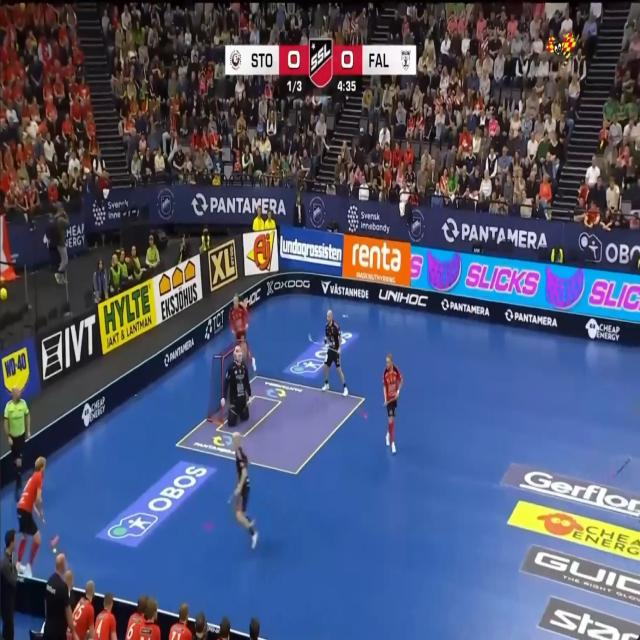Balls: (53, 547, 56, 553)
player: (16, 456, 45, 575), (233, 432, 258, 548), (220, 346, 250, 426), (322, 309, 347, 395), (229, 294, 256, 370), (383, 354, 402, 453), (73, 580, 95, 639), (95, 593, 116, 639), (126, 594, 147, 639), (140, 597, 161, 639), (169, 604, 192, 639), (67, 631, 72, 639)
stick: (611, 458, 631, 477), (384, 394, 398, 406), (314, 340, 330, 350), (228, 492, 234, 504), (308, 333, 314, 344), (384, 399, 390, 406), (330, 347, 337, 350)
